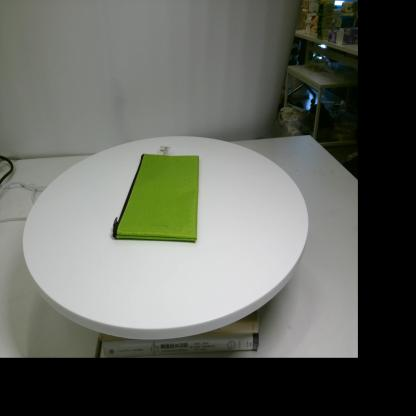Stationery: (112, 146, 199, 241)
